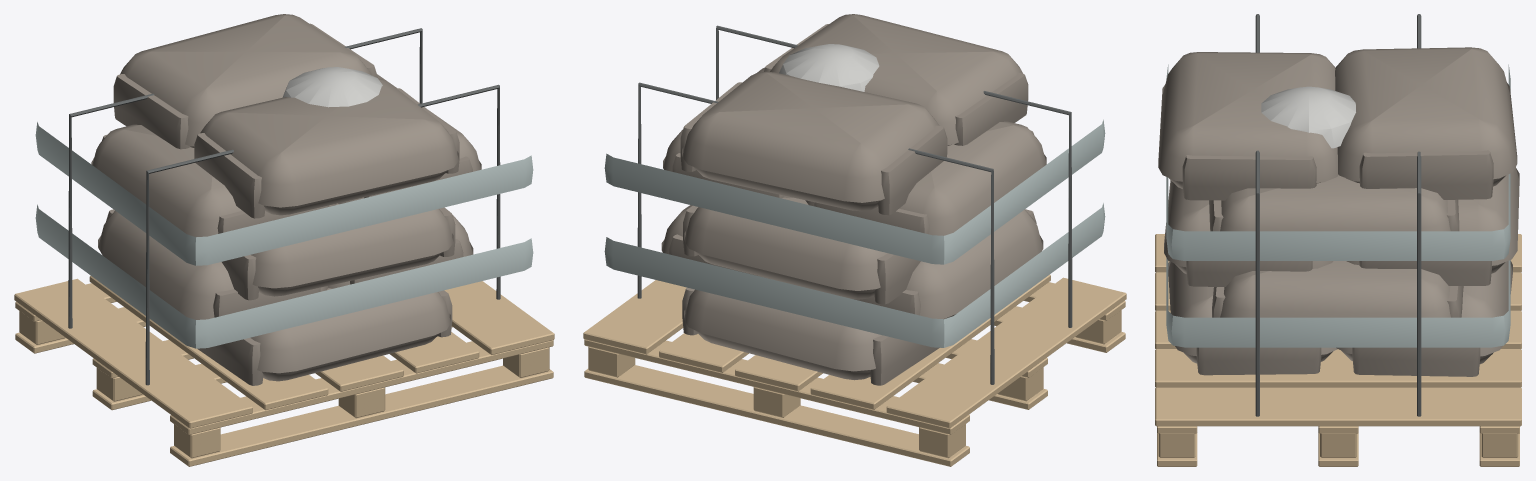
The model's file is garden-centre-and-florist-decorative-aggregate-bag-pal-6c9ba97b__17787.glb.
3 views of the same model, side by side, from view 1: azimuth 30°, elevation 25°; view 2: azimuth 150°, elevation 25°; view 3: azimuth 270°, elevation 25° (orthographic). The views are drawn at different scales.
Parts seen in each view (by area): view 1: decorative-aggregate-bag-pallet; view 2: decorative-aggregate-bag-pallet; view 3: decorative-aggregate-bag-pallet.
Boxes of the visible parts, x1,y1,x2,y2 form: decorative-aggregate-bag-pallet: (14,14,554,466); decorative-aggregate-bag-pallet: (583,14,1126,466); decorative-aggregate-bag-pallet: (1155,14,1521,466).
Size of the model in its own units: 1.2 by 0.904 by 1.
